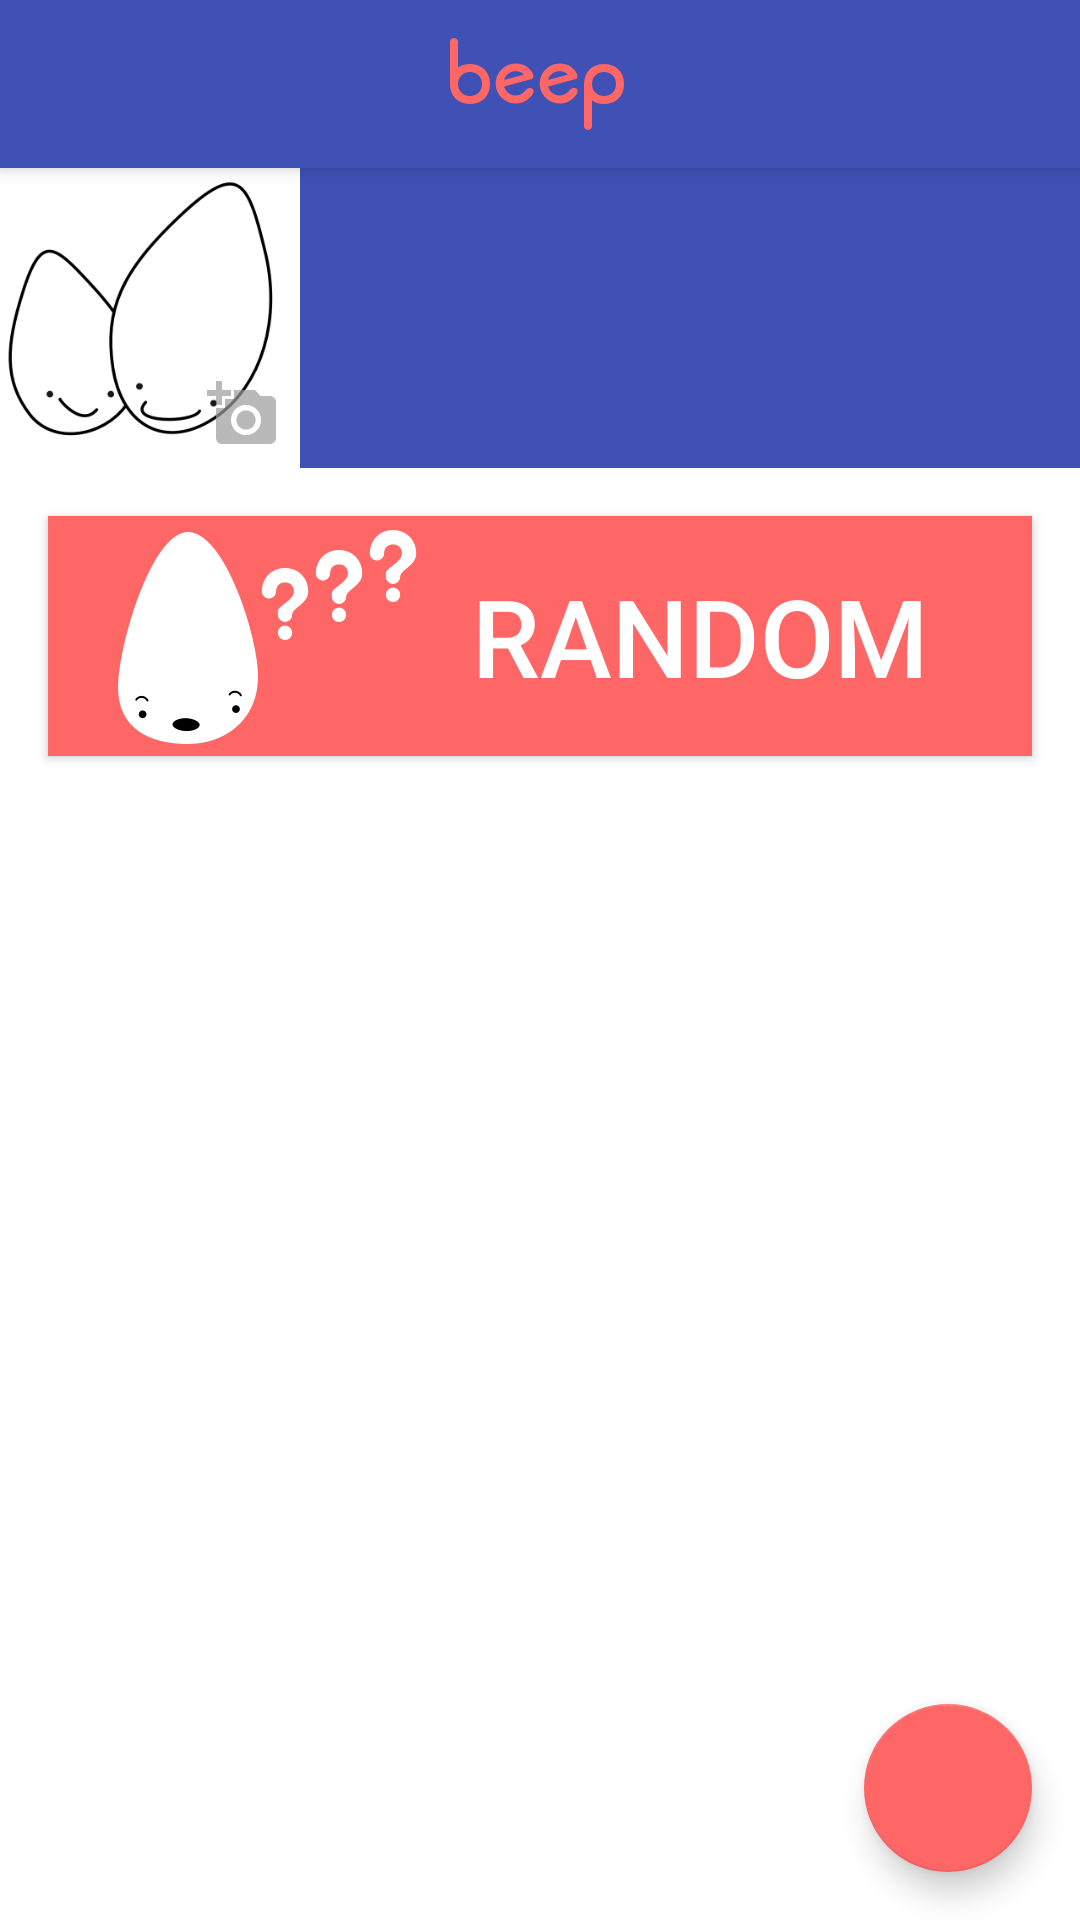

Named icons in this screenshot (1080px x 1920px) and their bounding boxes, region(x1, y1, x2, y2):
add photo: region(207, 381, 276, 444)
